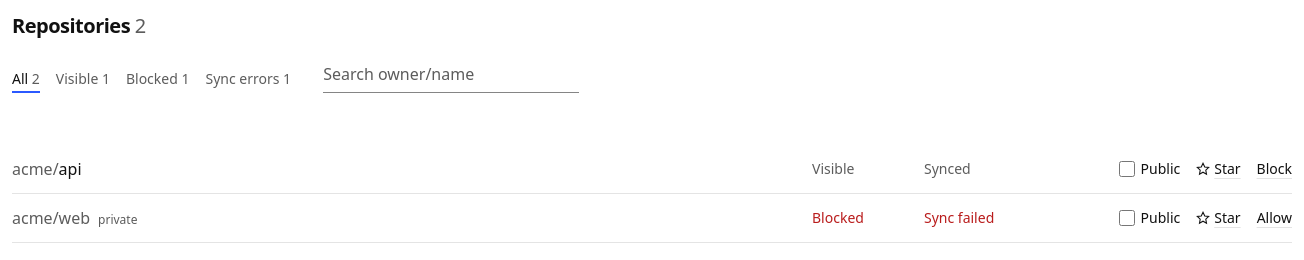
RepoAccessManager › shows the server error and keeps state
Click the button with aria-label "Block acme/api": (1274, 169) [1257,159,1292,179]
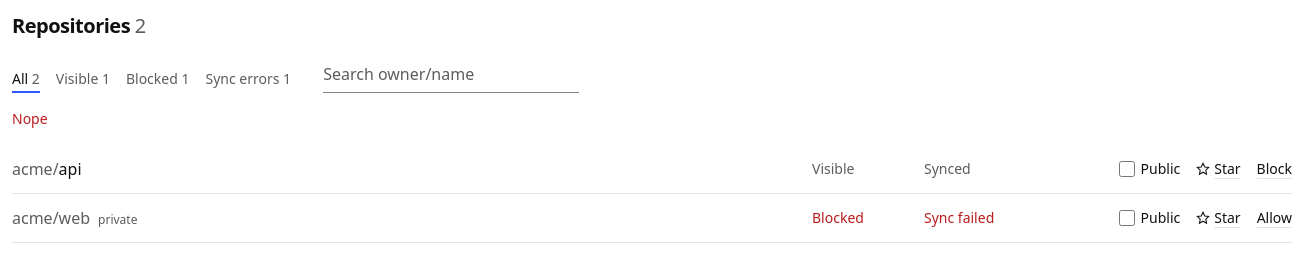
Now the text "Nope" is shown, box [12,109,48,128]
